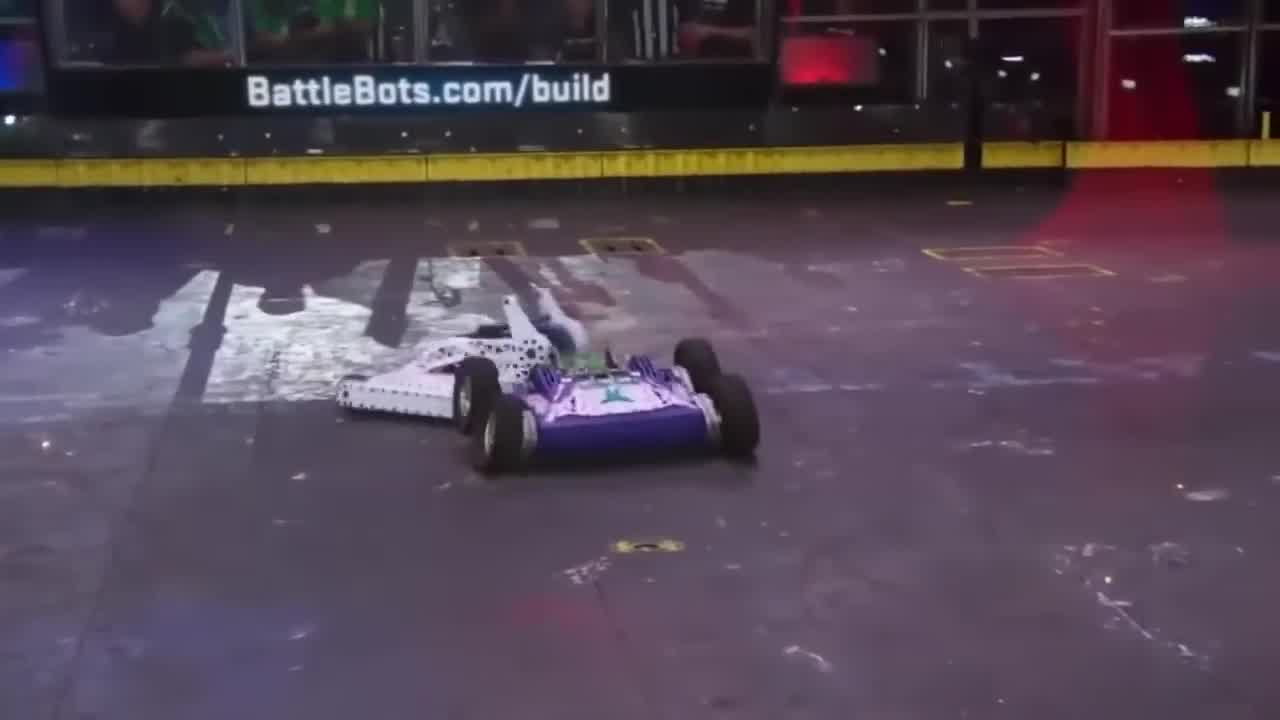combatbot: (456, 338, 763, 476), (337, 293, 573, 421)
